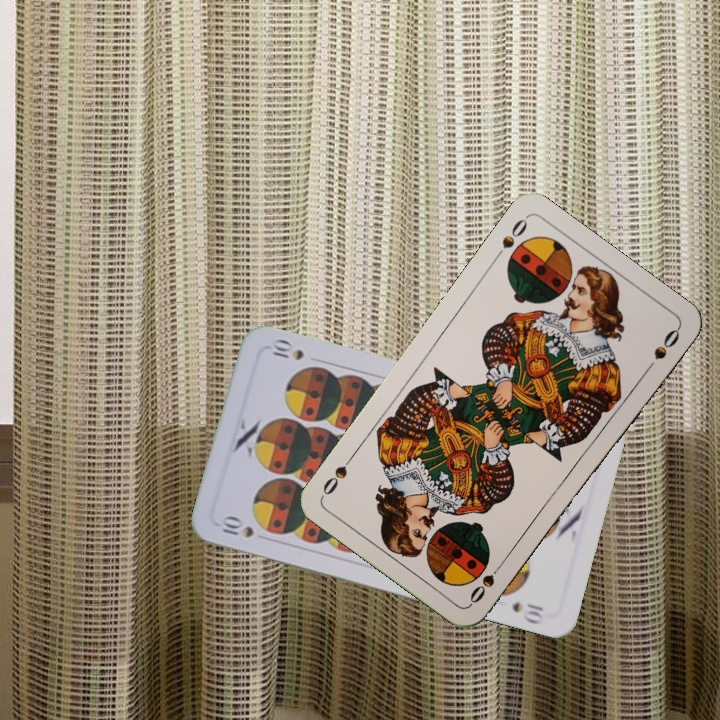S10: (217, 513, 256, 541)
SO: (465, 556, 508, 606), (489, 214, 531, 264)
